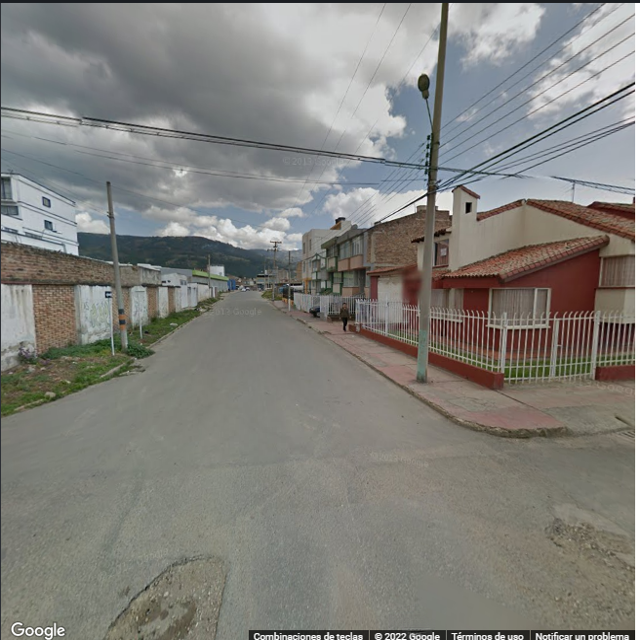D40: (102, 550, 233, 639), (545, 516, 631, 570)
